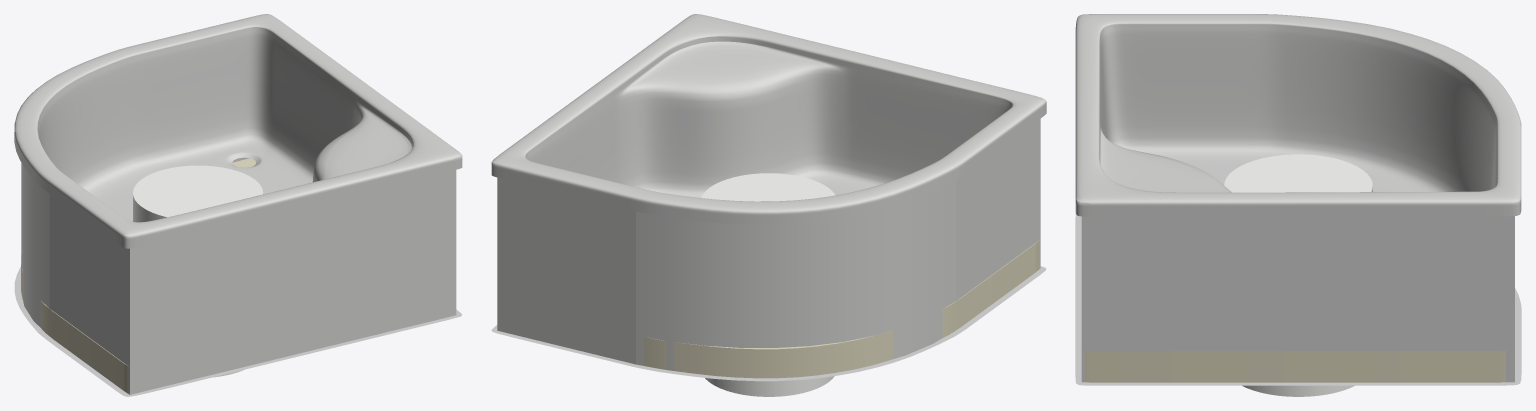
Rendered from Schedpol_Dante_90x89,9x28,3-R55.glb.
The picture shows the model from 3 angles, left to right: view 1: azimuth 30°, elevation 25°; view 2: azimuth 150°, elevation 25°; view 3: azimuth 270°, elevation 25°; orthographic projection. The views are drawn at different scales.
Parts seen in each view (by area): view 1: 90x90x41 R55.001, 90x90x41 R55, nosnik_eps, spod_skorupa; view 2: 90x90x41 R55.001, 90x90x41 R55, spod_skorupa, nosnik_eps; view 3: 90x90x41 R55, 90x90x41 R55.001, spod_skorupa, nosnik_eps.
Boxes of the visible parts, x1=… form: 90x90x41 R55.001: x1=21, y1=157, x2=456, y2=394; 90x90x41 R55: x1=14, y1=14, x2=462, y2=248; nosnik_eps: x1=133, y1=165, x2=263, y2=377; spod_skorupa: x1=14, y1=158, x2=462, y2=396; 90x90x41 R55.001: x1=497, y1=119, x2=1040, y2=370; 90x90x41 R55: x1=491, y1=14, x2=1046, y2=225; spod_skorupa: x1=491, y1=240, x2=1046, y2=381; nosnik_eps: x1=701, y1=173, x2=835, y2=396; 90x90x41 R55: x1=1075, y1=14, x2=1521, y2=216; 90x90x41 R55.001: x1=1081, y1=216, x2=1514, y2=382; spod_skorupa: x1=1075, y1=213, x2=1521, y2=385; nosnik_eps: x1=1224, y1=154, x2=1372, y2=396.
Size of the model in its own units: 0.9 by 0.5765 by 0.9.
